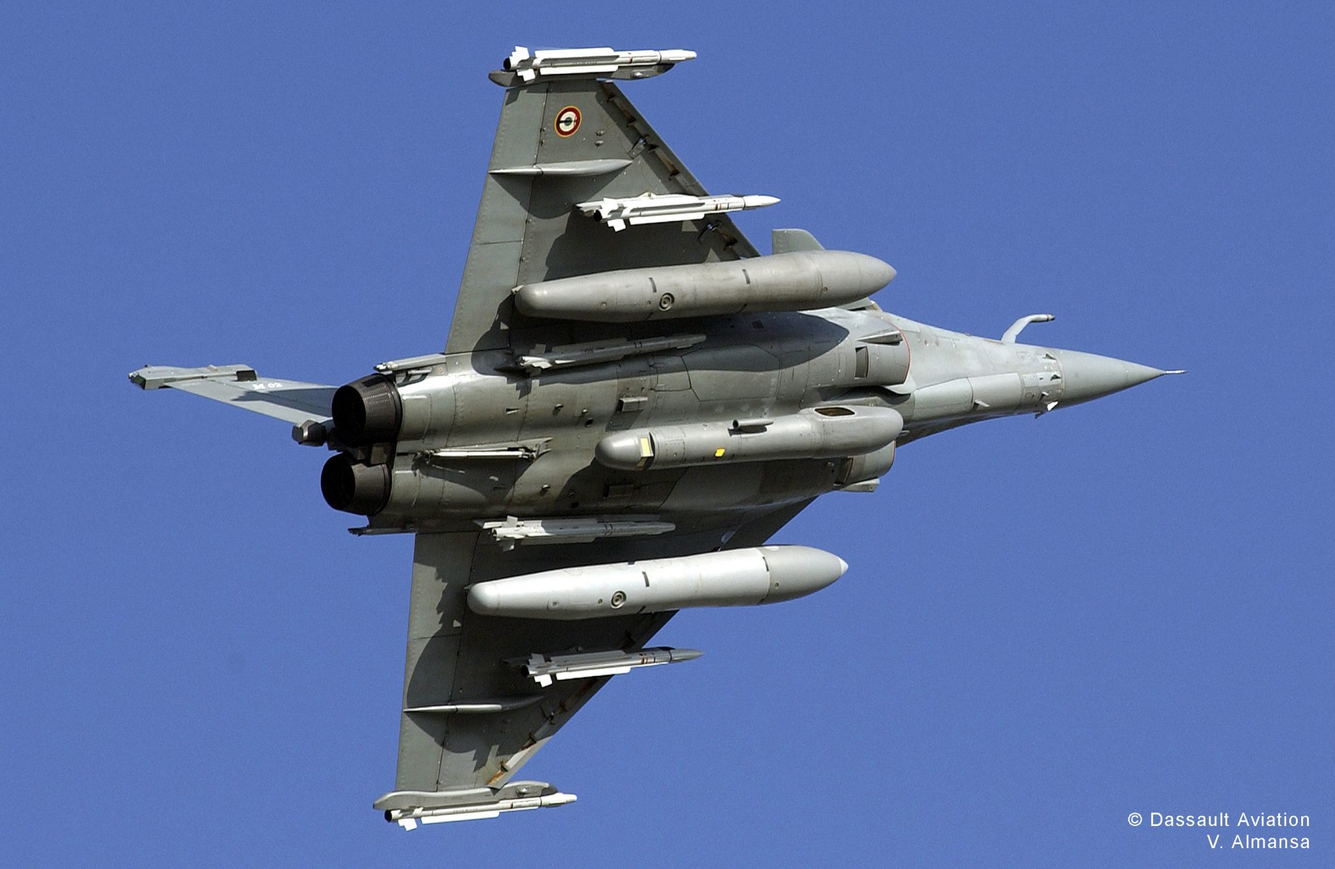Rafale: (120, 33, 1194, 830)
